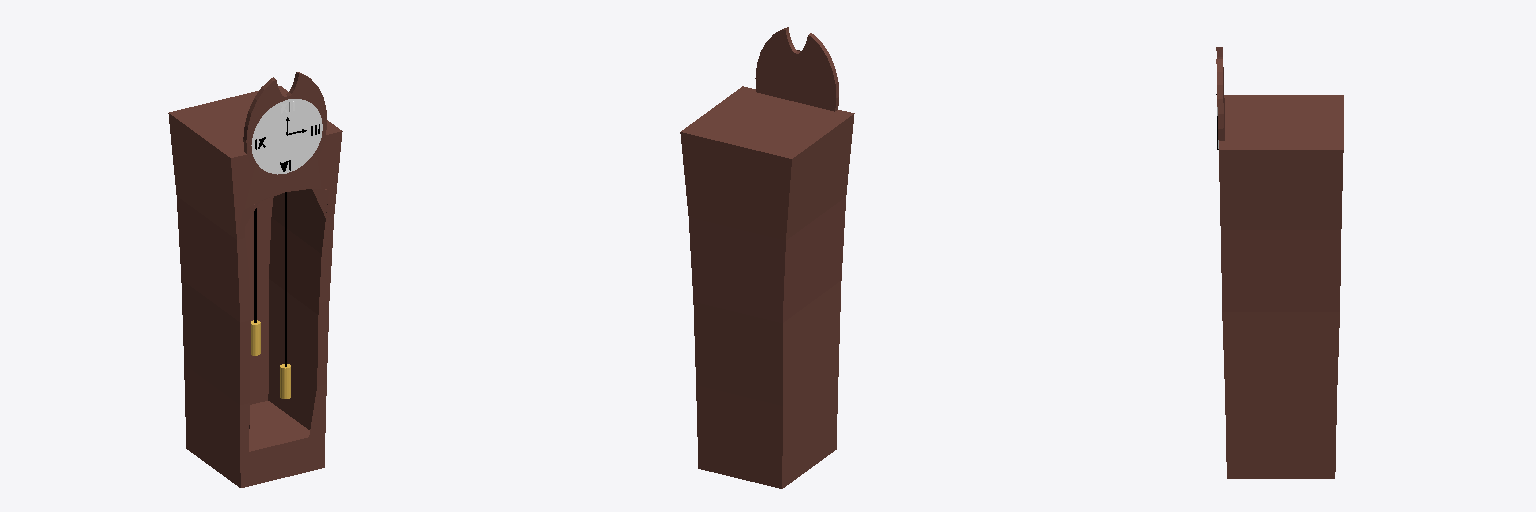
The picture shows the model from 3 angles: view 1: azimuth 30°, elevation 25°; view 2: azimuth 150°, elevation 25°; view 3: azimuth 270°, elevation 25°; orthographic projection.
Visible parts, largest first — view 1: pDisc2; view 2: pDisc2; view 3: pDisc2.
Boxes of the visible parts, x1,y1,x2,y2 form: pDisc2: [168, 72, 342, 487]; pDisc2: [680, 27, 854, 488]; pDisc2: [1216, 47, 1343, 478].
Bounding box in the file's own units: 1.55 × 5.38 × 1.53.
Materials: 5 (4 with a texture image).